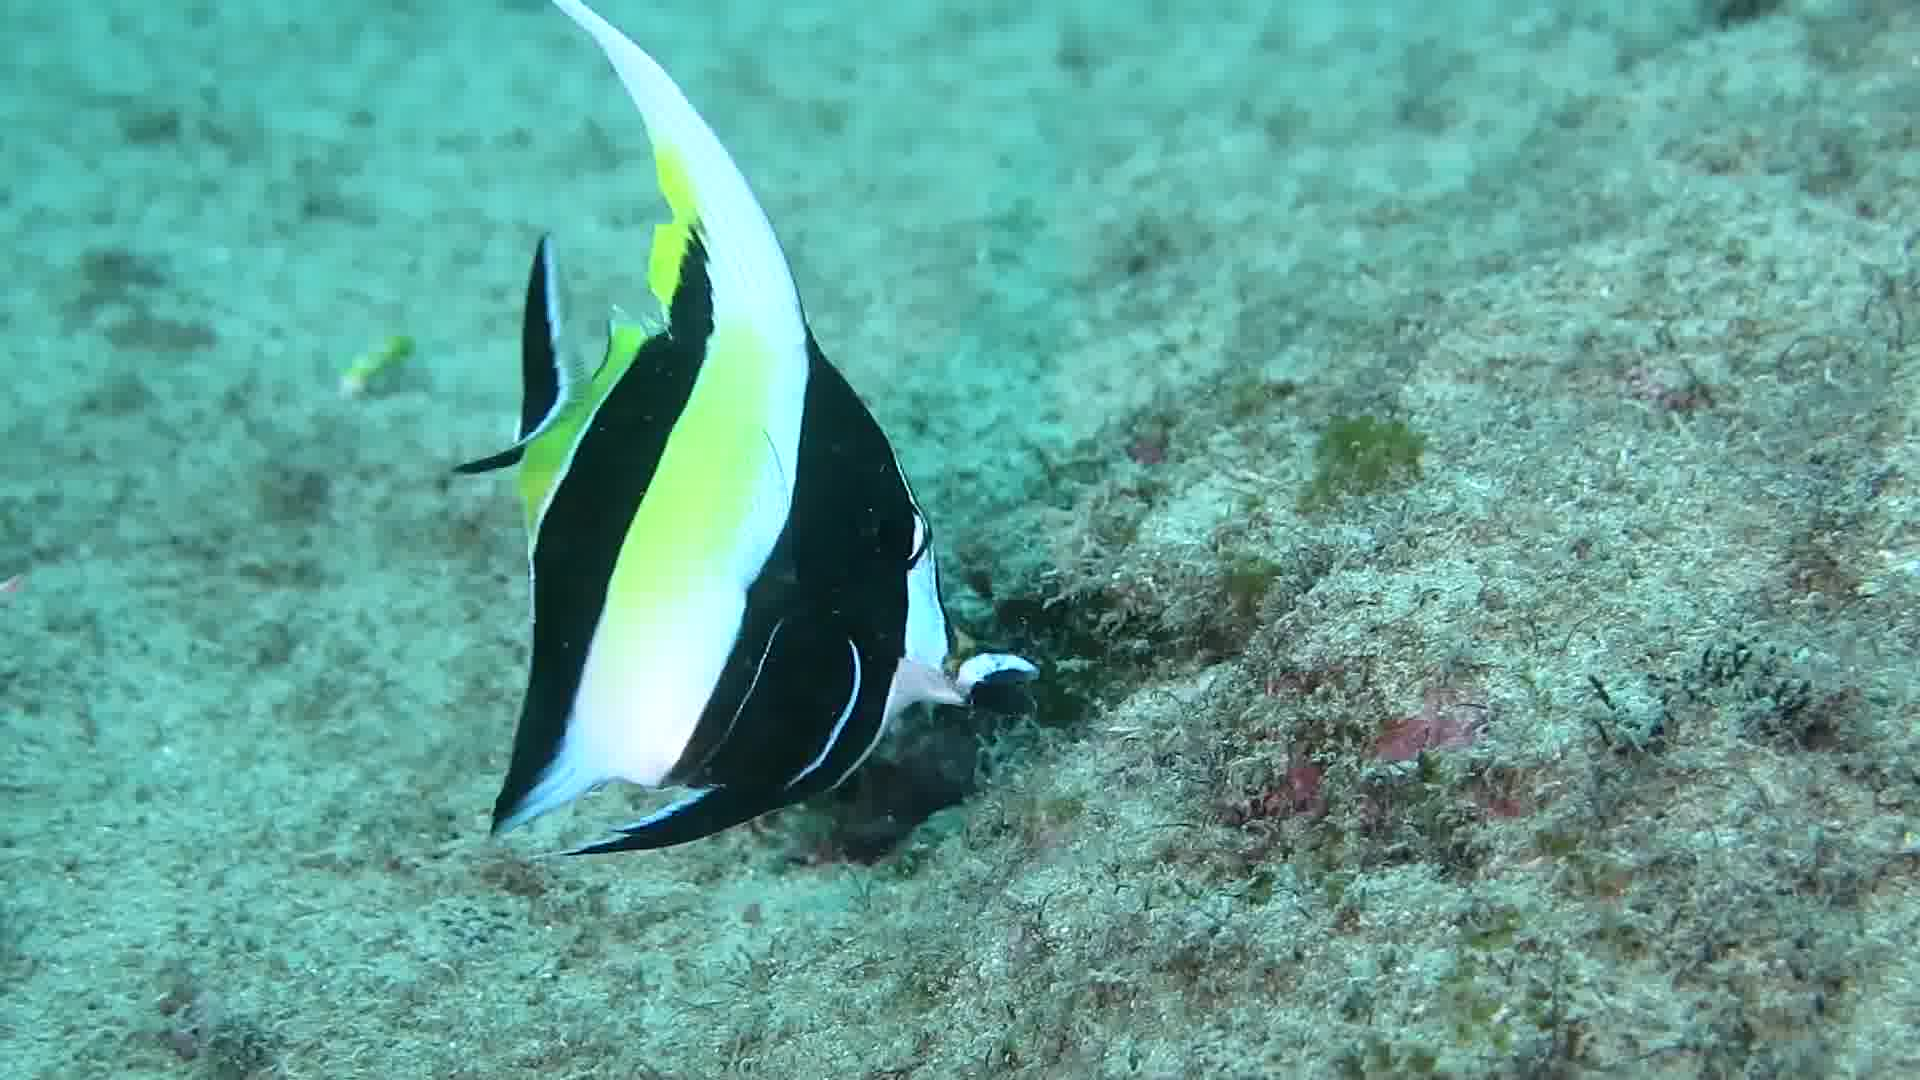Zanclus cornutus: (380, 160, 1150, 927)
